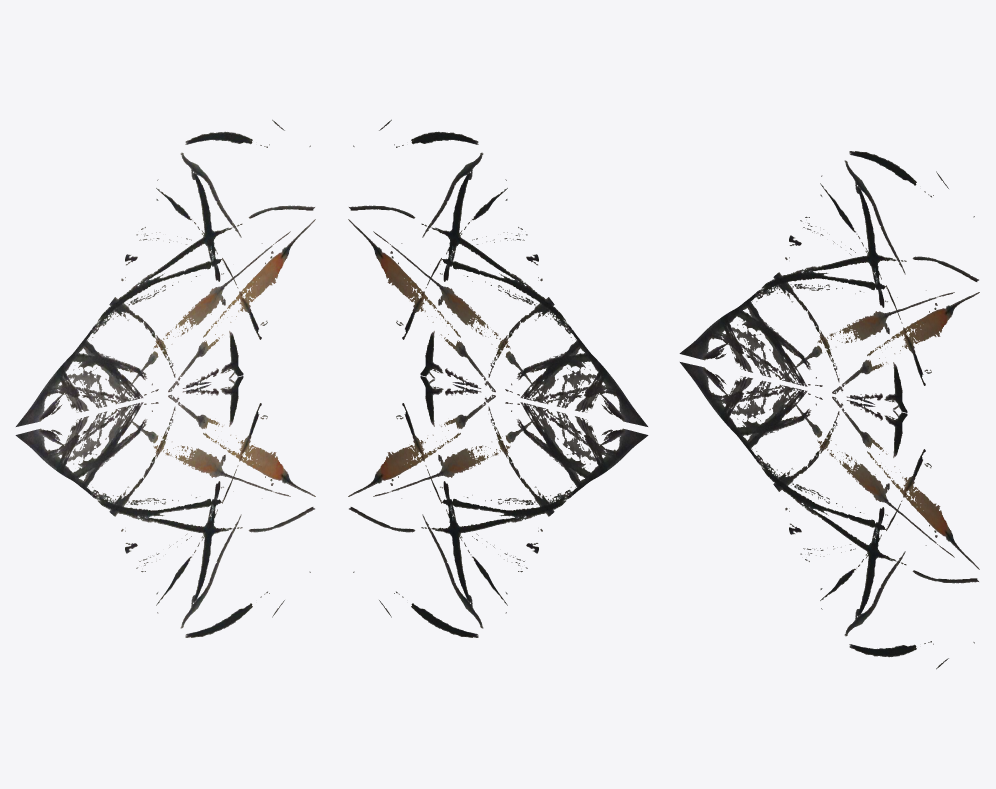
File: PPX_REED7.fbx
3 views of the same model, side by side, from view 1: azimuth 30°, elevation 25°; view 2: azimuth 150°, elevation 25°; view 3: azimuth 330°, elevation 25° (orthographic).
Visible parts, largest first — view 1: 图层 16.png_2, 图层 16.png; view 2: 图层 16.png_2, 图层 16.png; view 3: 图层 16.png, 图层 16.png_2.
Boxes of the visible parts, bbox=[...] form: 图层 16.png_2: bbox=[15, 376, 315, 637]; 图层 16.png: bbox=[16, 119, 315, 426]; 图层 16.png_2: bbox=[348, 376, 648, 637]; 图层 16.png: bbox=[348, 119, 647, 426]; 图层 16.png: bbox=[679, 151, 979, 412]; 图层 16.png_2: bbox=[680, 362, 979, 669].
Size of the model in its own units: 78.52 by 0 by 170.
1 material, 1 textured.
